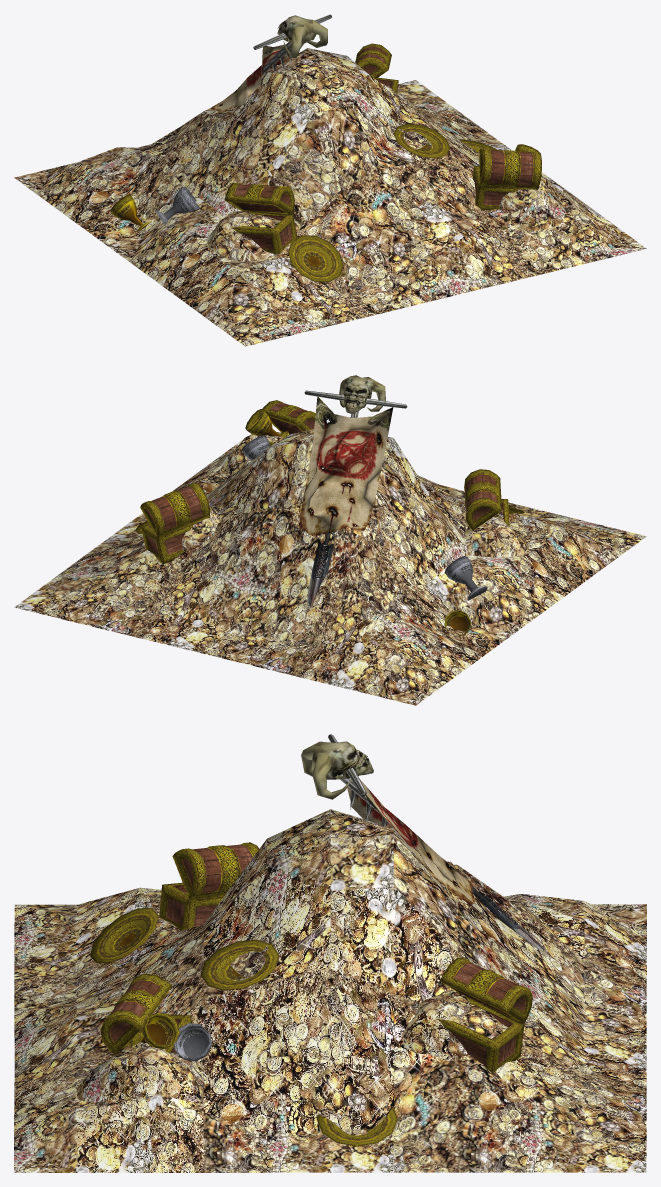
File: NW_MISC_TREASURE_01.glb
3 views of the same model, one above another, from view 1: azimuth 30°, elevation 25°; view 2: azimuth 150°, elevation 25°; view 3: azimuth 270°, elevation 25° (orthographic). The views are drawn at different scales.
Parts seen in each view (by area): view 1: Mesh; view 2: Mesh; view 3: Mesh.
Boxes of the visible parts, <box> form: Mesh: <box>14,14,646,346</box>; Mesh: <box>14,375,646,705</box>; Mesh: <box>14,734,646,1172</box>.
Bounding box in the file's own units: 5 × 2.46 × 4.98.
Materials: 6 (6 with a texture image).
